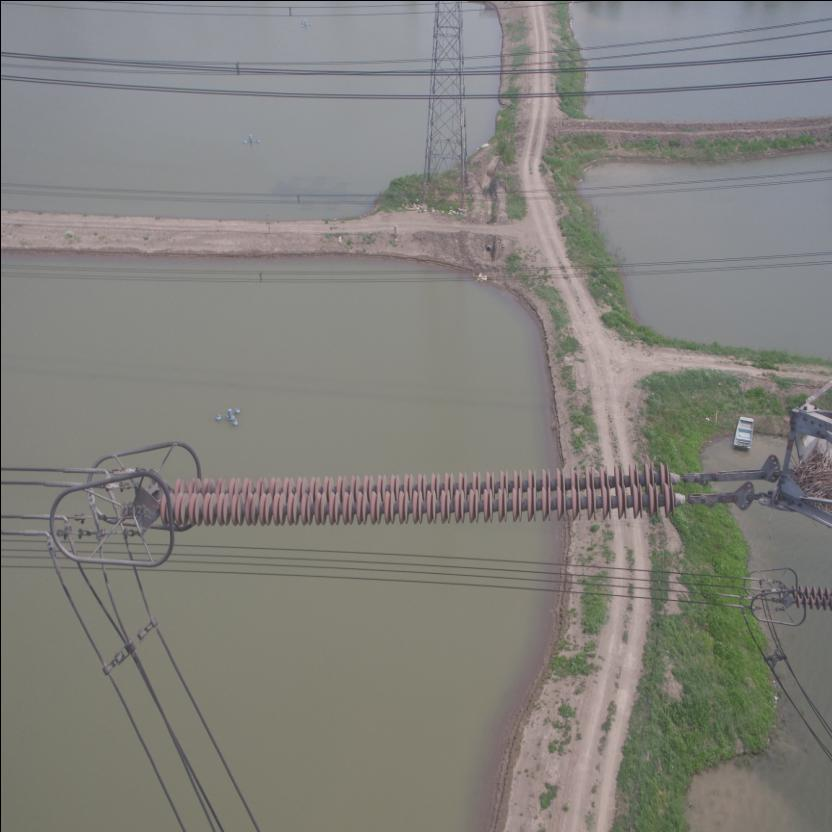insulator: (149, 458, 717, 530)
